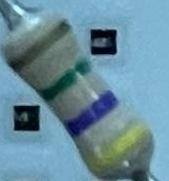Blue: (62, 84, 122, 140)
Green: (36, 52, 95, 102)
Side-Silver: (5, 16, 75, 77)
Yellow: (85, 119, 154, 179)
